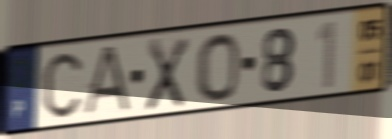1: (316, 18, 338, 92)
8: (261, 25, 296, 96)
A: (78, 43, 134, 118)
C: (41, 50, 84, 121)
O: (194, 31, 241, 104)
X: (143, 35, 191, 114)
